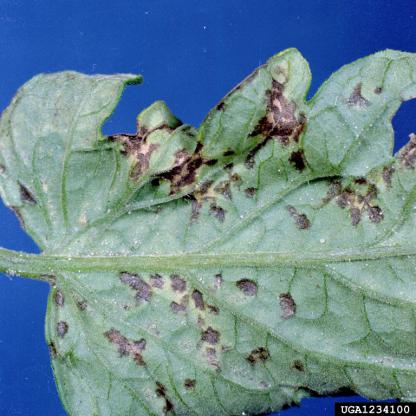tomato leaf bacterial spot: (4, 56, 415, 411)
